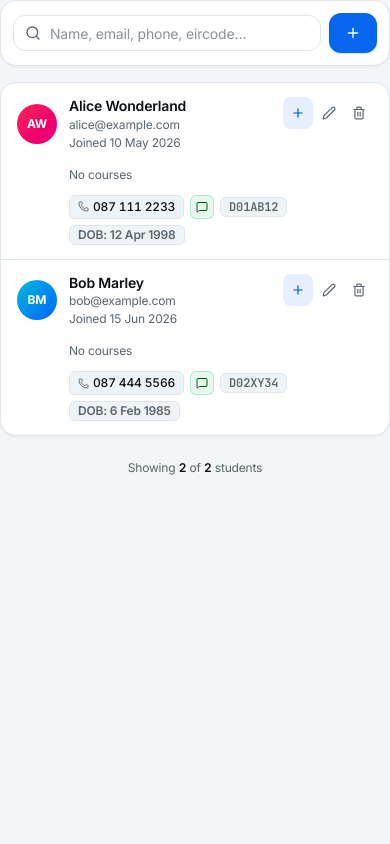
Test: StudentList Responsive Mobile Cards › opens StudentDetail drawer when clicking student card
The width and height of the screenshot is (390, 844).
Click the text "Alice Wonderland" at (128, 106), box [69,97,186,114]
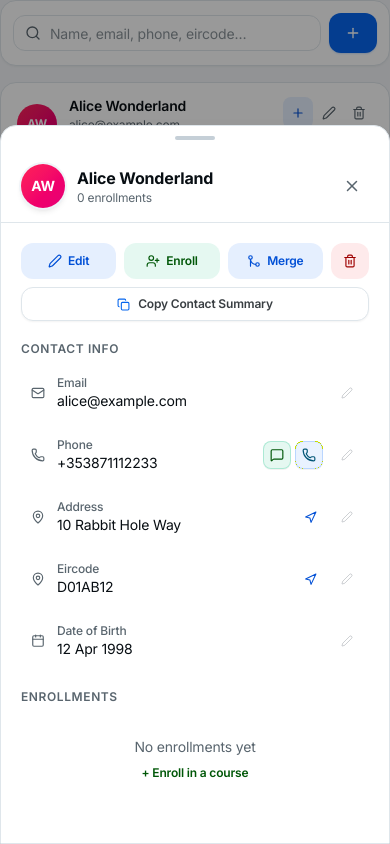
Now the text "Copy Contact Summary" is shown, box [138,296,273,312]
